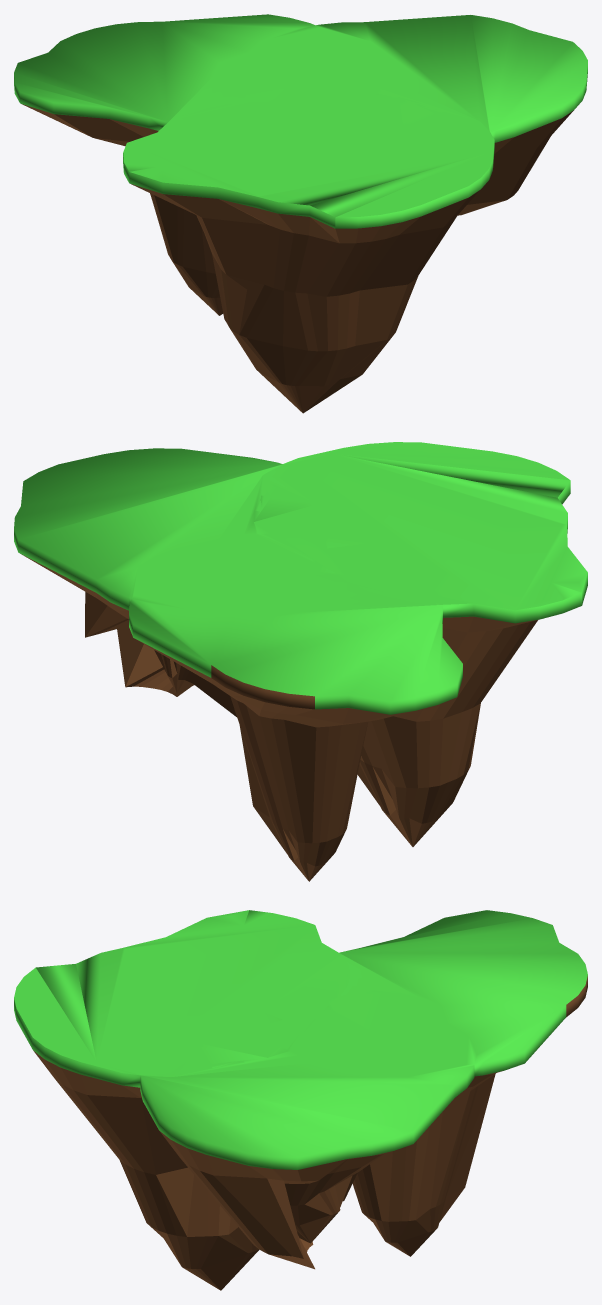
The model's file is lvl2.fbx.
The picture shows the model from 3 angles, top to bottom: view 1: azimuth 30°, elevation 25°; view 2: azimuth 150°, elevation 25°; view 3: azimuth 270°, elevation 25°; orthographic projection. The views are drawn at different scales.
Parts seen in each view (by area): view 1: Cylinder.002; view 2: Cylinder.002; view 3: Cylinder.002.
Part boxes in pixels (x1=…): Cylinder.002: x1=14, y1=14, x2=587, y2=413; Cylinder.002: x1=14, y1=442, x2=587, y2=881; Cylinder.002: x1=14, y1=910, x2=587, y2=1290.
Bounding box in the file's own units: 1733 × 964 × 1699.
